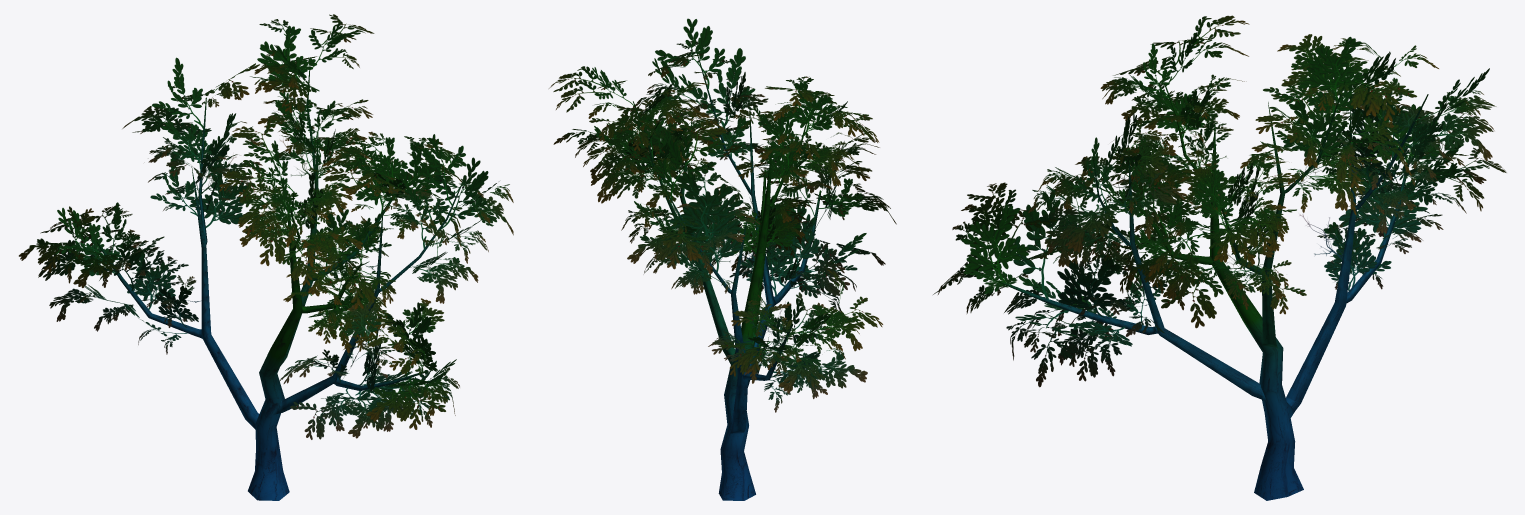
File: Mate_B.glb
3 views of the same model, side by side, from view 1: azimuth 30°, elevation 25°; view 2: azimuth 150°, elevation 25°; view 3: azimuth 270°, elevation 25° (orthographic). The views are drawn at different scales.
Parts seen in each view (by area): view 1: YerbaMateB_LOD0; view 2: YerbaMateB_LOD0; view 3: YerbaMateB_LOD0.
Part boxes in pixels (x1=…): YerbaMateB_LOD0: x1=19, y1=14, x2=513, y2=500; YerbaMateB_LOD0: x1=549, y1=18, x2=896, y2=500; YerbaMateB_LOD0: x1=933, y1=15, x2=1506, y2=500.
Size of what is drawn, in the model's own units: 4.86 by 5.36 by 5.81.
Materials: 2 (2 with a texture image).
